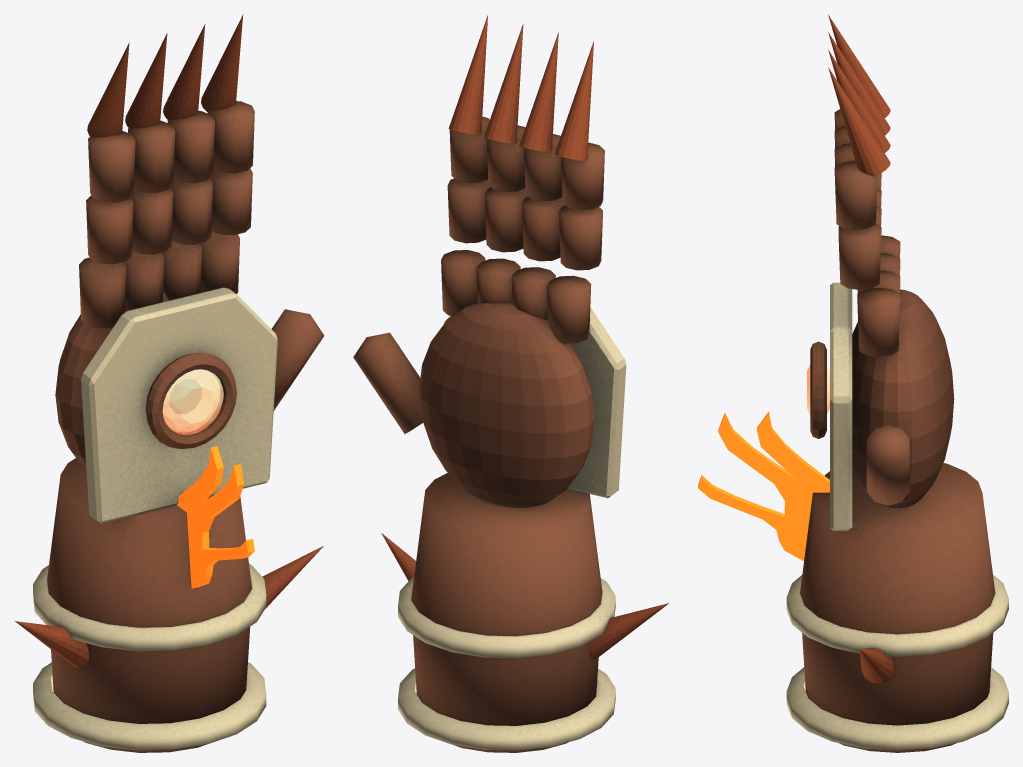
The model's file is arma_lend_manopla_fogo.glb.
3 views of the same model, side by side, from view 1: azimuth 30°, elevation 25°; view 2: azimuth 150°, elevation 25°; view 3: azimuth 270°, elevation 25° (orthographic). The views are drawn at different scales.
Parts seen in each view (by area): view 1: arma_lend_manopla_fogo, gema_costas, ac_manopla1, ac_manopla0, ac_manopla2; view 2: arma_lend_manopla_fogo; view 3: arma_lend_manopla_fogo, ac_manopla1, ac_manopla0, ac_manopla2.
Boxes of the visible parts, bbox=[...] form: arma_lend_manopla_fogo: bbox=[15, 14, 324, 752]; gema_costas: bbox=[162, 369, 223, 435]; ac_manopla1: bbox=[185, 464, 244, 564]; ac_manopla0: bbox=[189, 539, 254, 588]; ac_manopla2: bbox=[177, 446, 223, 561]; arma_lend_manopla_fogo: bbox=[353, 15, 669, 752]; arma_lend_manopla_fogo: bbox=[786, 14, 1008, 752]; ac_manopla1: bbox=[718, 413, 816, 539]; ac_manopla0: bbox=[698, 475, 808, 560]; ac_manopla2: bbox=[757, 411, 829, 543].
Size of the model in its own units: 0.1863 by 0.395 by 0.1649.
5 materials, 1 textured.
